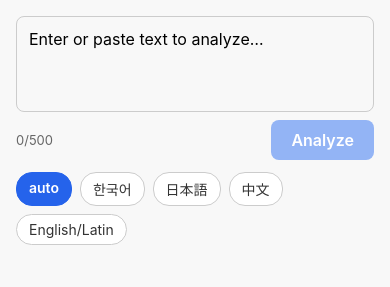
Test: HomeScreen error placement (FR-013) › INVALID_INPUT shows inline at the input, no banner
This screenshot has width=390, height=287.
Expected: the button "Analyze" is shown, [271,120,374,160]
Type "x" into the text box labelled "text to analyze" at coordinates (195, 64), box [16,16,374,112]
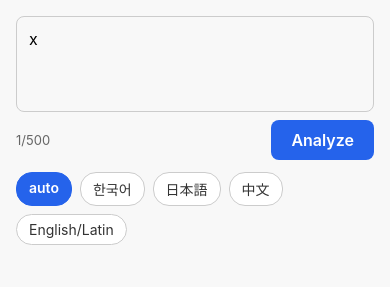
Click the button "Analyze" at coordinates (323, 140), box [271,120,374,160]
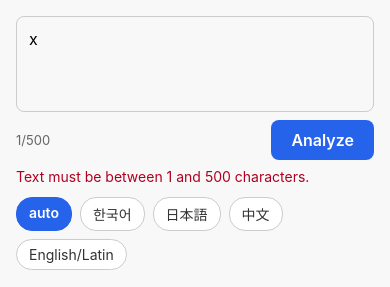
Expected: the text "Text must be between 1 and 500 characters." is shown, [16,168,309,185]
